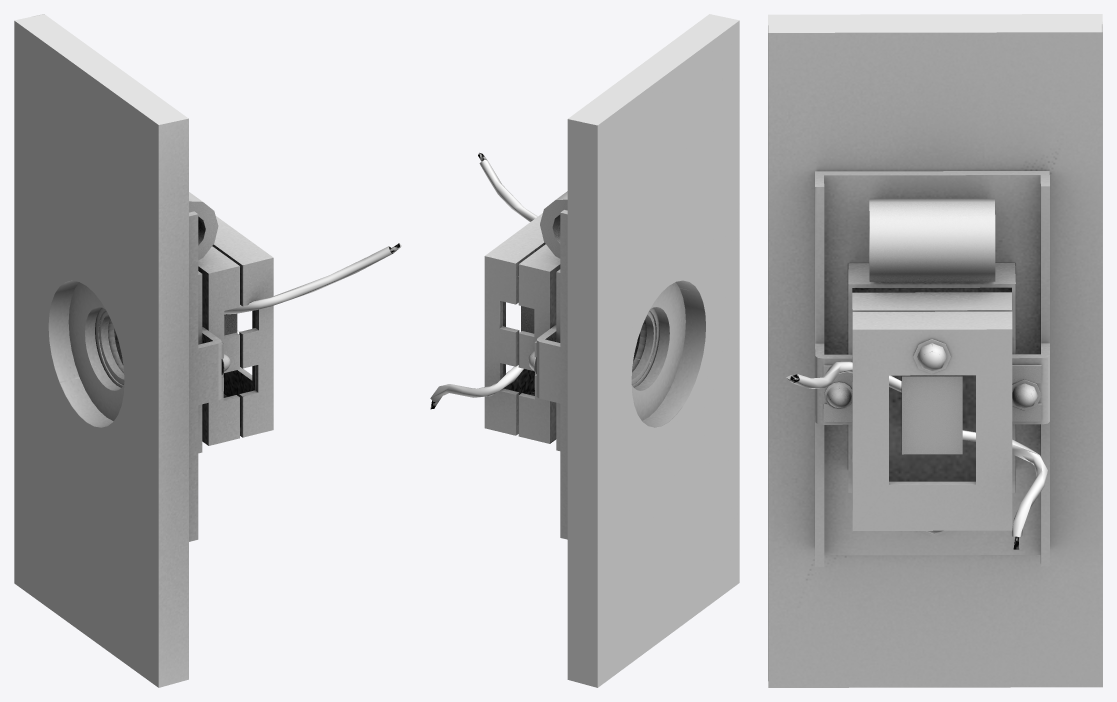
File: elevator_button_panel_highpoly.fbx
3 renders of one model, left to right at view 1: azimuth 30°, elevation 25°; view 2: azimuth 150°, elevation 25°; view 3: azimuth 270°, elevation 25°, orthographic. The views are drawn at different scales.
Visible parts, largest first — view 1: panel_hp; view 2: panel_hp; view 3: panel_hp.
Part boxes in pixels (left/top/right/bottom): panel_hp: left=14, top=14, right=401, bottom=687; panel_hp: left=430, top=14, right=739, bottom=687; panel_hp: left=768, top=14, right=1102, bottom=687.
Bounding box in the file's own units: 3.62 × 7.67 × 3.54.
